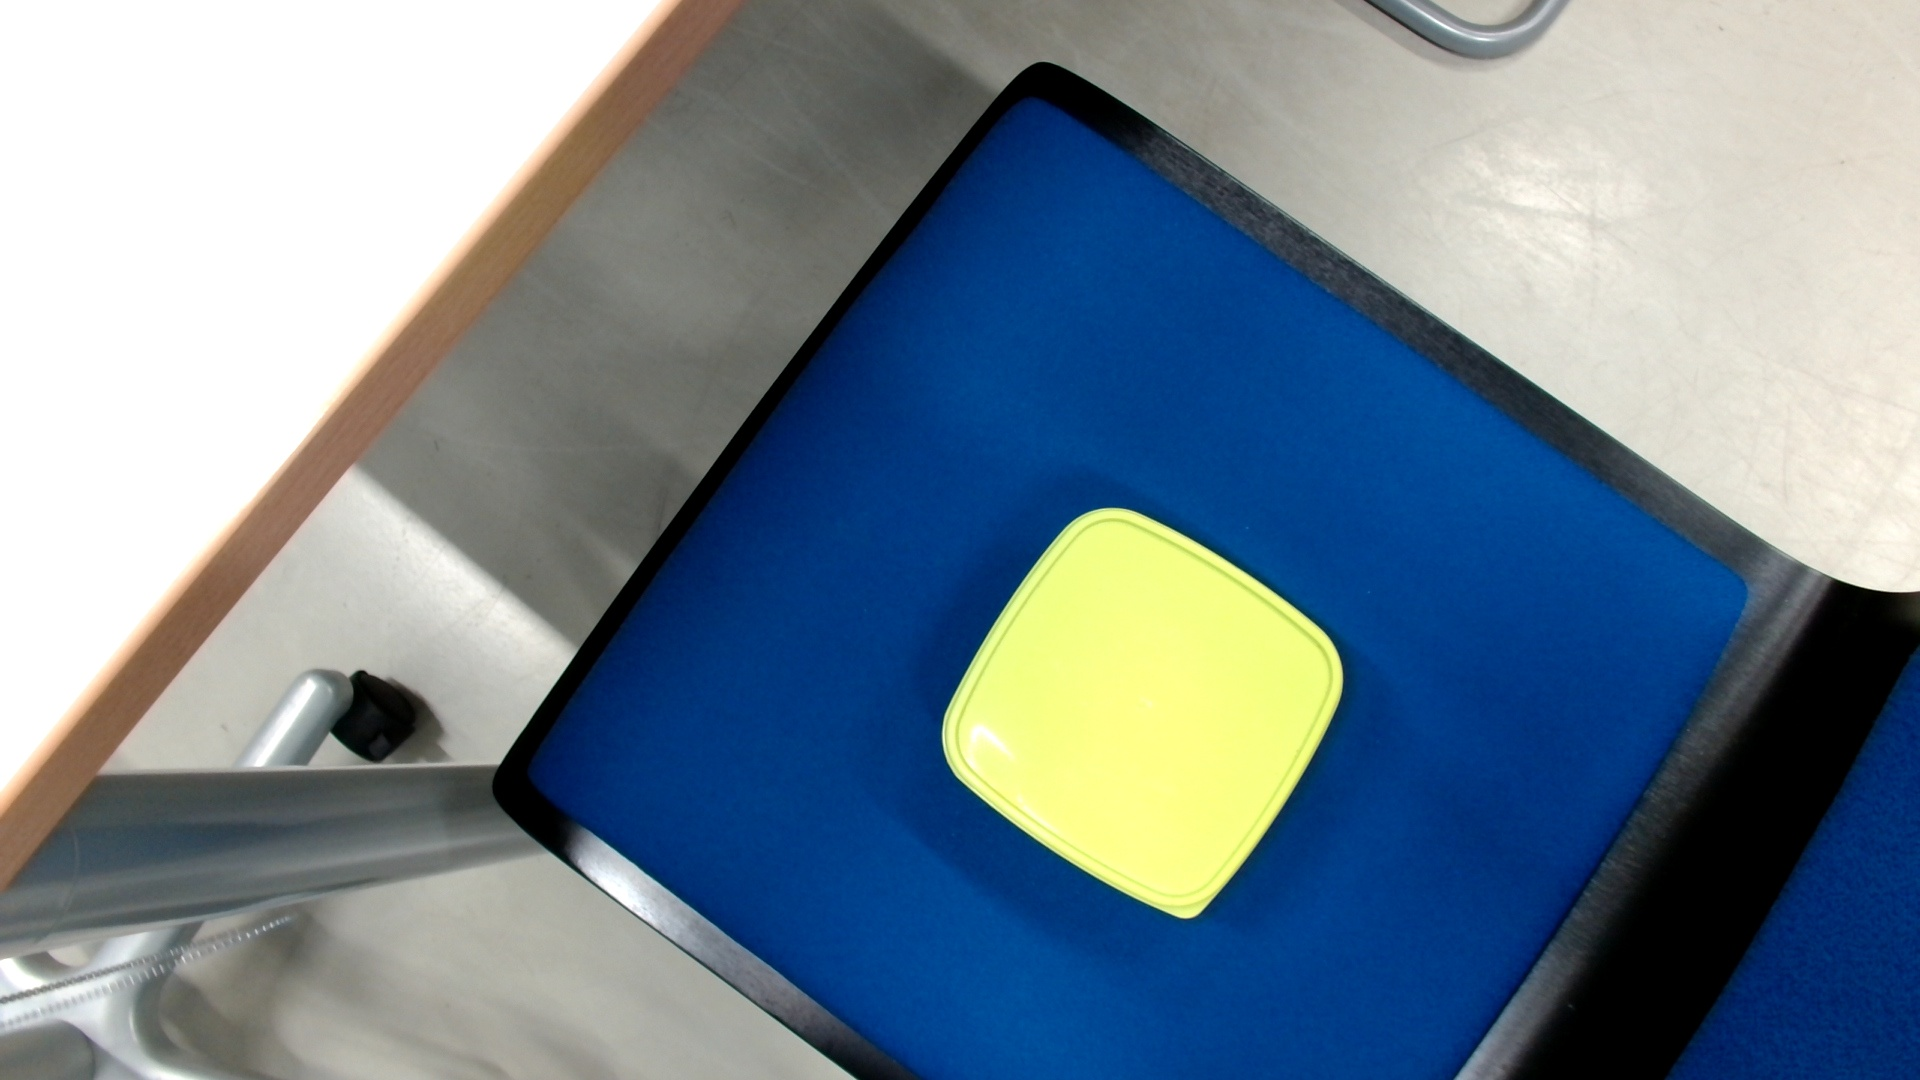Box: (935, 498, 1352, 936)
